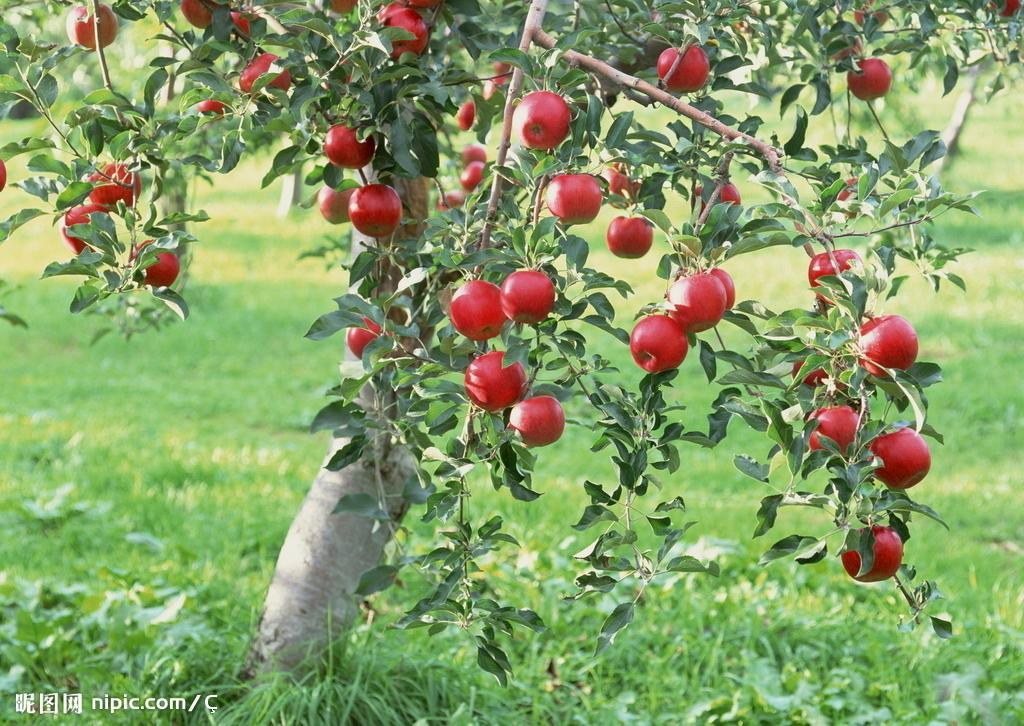apple: (664, 269, 730, 332), (838, 524, 903, 585), (462, 349, 527, 410), (868, 428, 930, 491), (626, 314, 690, 374), (511, 92, 571, 152), (856, 316, 917, 373), (449, 281, 505, 340), (506, 394, 565, 447), (498, 268, 555, 322), (347, 183, 401, 238), (376, 6, 429, 61), (548, 175, 603, 225), (804, 405, 857, 455), (65, 3, 119, 52), (805, 248, 863, 292), (657, 44, 709, 93), (322, 123, 374, 169), (845, 56, 891, 102), (606, 215, 654, 258), (316, 184, 357, 224), (139, 250, 180, 286), (344, 325, 378, 357), (838, 550, 862, 578)
